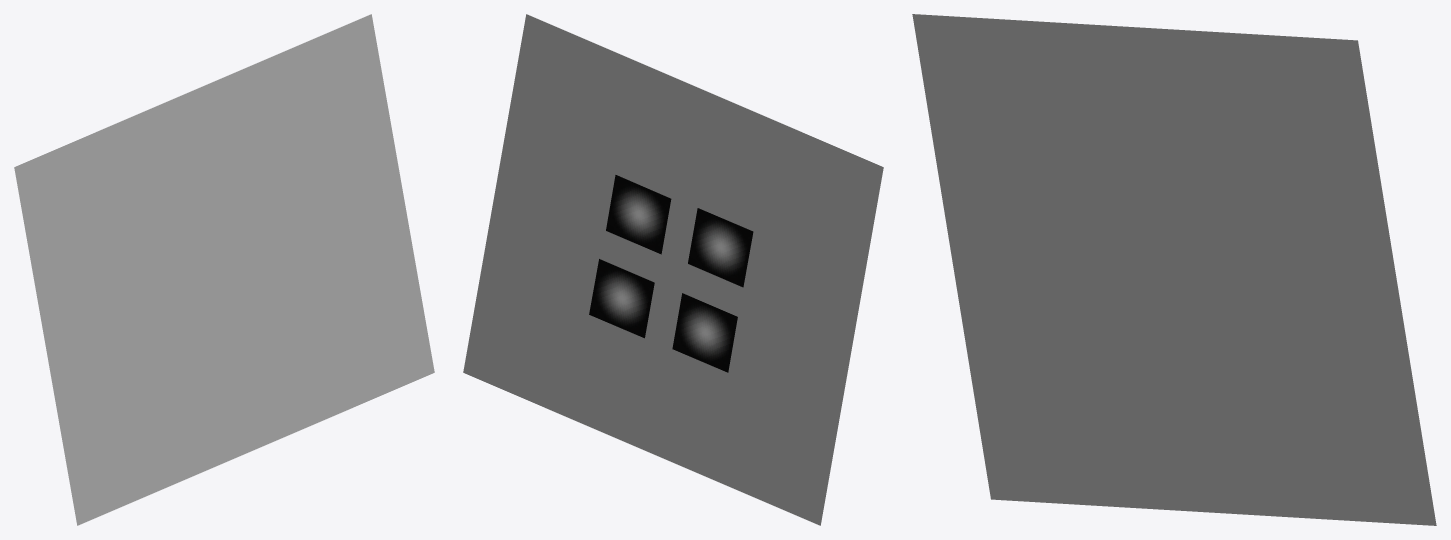
File: gh_huanxianglingyu_mdx.gltf
The picture shows the model from 3 angles, left to right: view 1: azimuth 30°, elevation 25°; view 2: azimuth 150°, elevation 25°; view 3: azimuth 330°, elevation 25°; orthographic projection. The views are drawn at different scales.
Parts seen in each view (by area): view 1: War3Model; view 2: War3Model; view 3: War3Model.
Boxes of the visible parts, box(x1,y1,x2,y2) form: War3Model: box(14, 14, 434, 525); War3Model: box(463, 14, 883, 525); War3Model: box(912, 14, 1436, 525).
Size of the model in its own units: 500 by 500 by 5.
